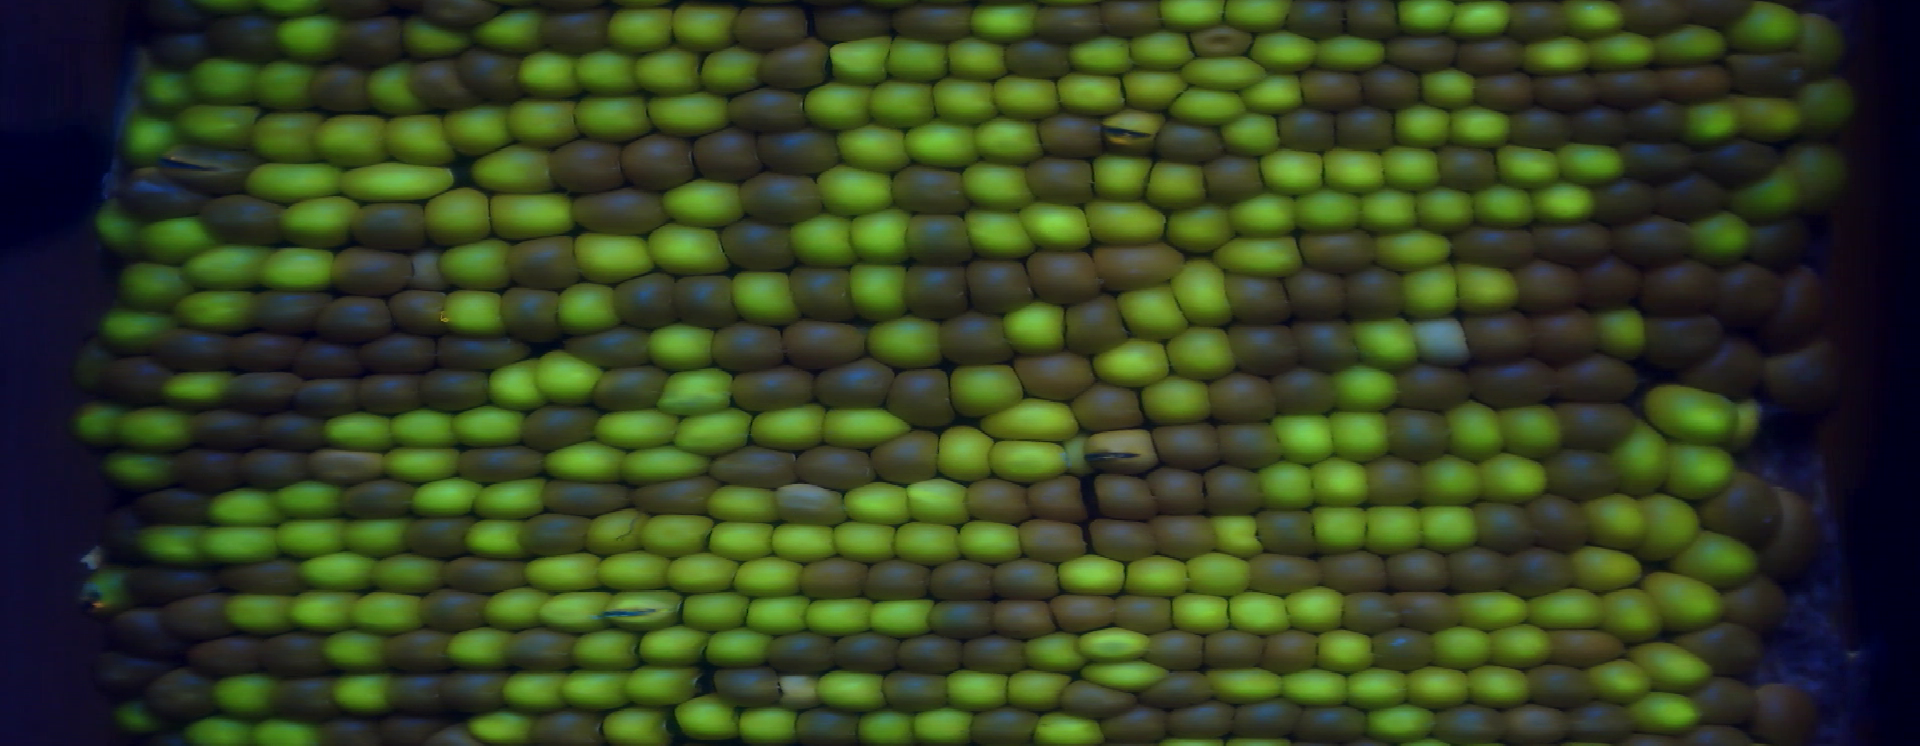fluorescent: (1643, 383, 1741, 443), (1673, 530, 1758, 587), (980, 394, 1079, 442), (1646, 570, 1724, 630), (339, 159, 452, 201), (816, 162, 895, 217), (647, 224, 729, 277), (573, 232, 653, 283), (242, 160, 340, 202), (1162, 327, 1236, 382), (731, 271, 800, 330), (863, 318, 945, 367), (1176, 257, 1233, 327), (438, 236, 509, 293), (309, 118, 388, 168), (280, 195, 358, 246), (1667, 440, 1734, 499), (1089, 338, 1168, 387), (948, 363, 1020, 416), (1086, 202, 1168, 249), (471, 142, 551, 190), (426, 187, 493, 244), (662, 176, 740, 225), (503, 100, 578, 151), (251, 107, 318, 162), (141, 216, 218, 263), (1642, 494, 1698, 559), (967, 162, 1040, 212), (835, 124, 909, 173), (388, 111, 452, 168), (824, 405, 912, 446), (491, 192, 569, 238), (658, 367, 730, 416), (1618, 420, 1667, 492), (1449, 401, 1505, 463), (593, 409, 680, 450), (1478, 452, 1548, 502), (1353, 318, 1418, 372), (1731, 164, 1798, 217), (973, 119, 1048, 165), (991, 439, 1069, 483), (1210, 236, 1300, 274), (171, 290, 253, 332), (644, 92, 729, 132), (182, 247, 269, 287), (902, 119, 973, 167), (263, 245, 334, 293), (638, 512, 713, 557), (1499, 404, 1560, 459), (1118, 287, 1183, 338), (962, 209, 1032, 257), (1638, 642, 1709, 688), (753, 405, 828, 450), (1597, 588, 1659, 641), (618, 447, 708, 484), (1164, 205, 1233, 252), (119, 262, 187, 310), (680, 409, 749, 456), (849, 265, 906, 321), (538, 348, 598, 402), (792, 217, 853, 269), (1583, 496, 1644, 549), (571, 627, 642, 673), (841, 478, 909, 526), (634, 49, 703, 96), (1531, 588, 1603, 632), (868, 80, 933, 129), (1003, 304, 1063, 356), (1262, 147, 1329, 195), (192, 60, 260, 107), (680, 590, 751, 635), (1026, 202, 1090, 251), (607, 590, 684, 631), (1371, 232, 1453, 269), (347, 592, 421, 633), (1142, 379, 1211, 424), (1322, 146, 1387, 194), (253, 60, 313, 111), (1573, 545, 1643, 589), (651, 322, 713, 372), (802, 82, 869, 127), (994, 72, 1062, 118), (1060, 70, 1128, 115), (938, 425, 992, 481), (1422, 452, 1478, 506), (1085, 431, 1160, 472), (518, 50, 579, 99), (1297, 187, 1363, 233), (1081, 658, 1168, 692), (573, 97, 651, 135), (624, 668, 703, 706), (1457, 590, 1533, 630), (369, 62, 422, 118), (1229, 195, 1297, 239), (1278, 416, 1333, 470), (444, 628, 512, 673), (1790, 146, 1844, 201), (1693, 212, 1750, 265), (933, 78, 997, 125), (100, 307, 171, 349), (1414, 187, 1474, 236), (811, 670, 883, 710), (542, 590, 609, 635), (1740, 98, 1806, 142), (602, 10, 672, 51), (853, 212, 909, 265), (1423, 503, 1478, 556), (475, 477, 542, 519), (448, 110, 512, 156), (547, 443, 623, 481), (527, 552, 602, 590), (574, 47, 633, 96), (828, 34, 887, 83), (178, 104, 249, 145), (1363, 506, 1423, 554), (1231, 588, 1292, 635), (91, 197, 143, 251), (1171, 89, 1248, 126), (1125, 554, 1191, 597), (885, 36, 948, 81), (1466, 664, 1528, 709), (891, 522, 961, 562), (1058, 556, 1128, 597), (277, 17, 340, 61), (588, 507, 648, 554), (598, 552, 671, 590), (298, 554, 373, 590), (958, 522, 1022, 565), (1393, 104, 1455, 149), (324, 409, 393, 450), (1146, 163, 1202, 212), (1123, 67, 1185, 111), (558, 283, 616, 331), (1093, 152, 1151, 200), (1358, 187, 1416, 235), (639, 627, 711, 665), (671, 2, 730, 49), (452, 405, 522, 445), (558, 671, 628, 710), (1456, 263, 1515, 310), (1187, 55, 1266, 89), (675, 697, 738, 740), (768, 519, 835, 560), (277, 517, 344, 557), (948, 668, 1008, 713), (1738, 4, 1798, 49), (490, 359, 542, 410), (1800, 78, 1853, 130), (1490, 624, 1551, 668), (1654, 26, 1728, 62), (201, 526, 277, 561), (1494, 145, 1562, 184), (705, 521, 771, 561), (322, 632, 388, 673), (803, 597, 869, 637), (444, 289, 503, 334), (699, 47, 758, 92), (486, 589, 550, 631), (399, 18, 469, 56), (1336, 367, 1396, 412), (1007, 670, 1067, 714), (1401, 265, 1453, 315), (1250, 33, 1318, 72), (122, 116, 178, 164), (948, 36, 1005, 81), (389, 410, 458, 448), (381, 443, 457, 478), (212, 488, 280, 526), (373, 554, 442, 592), (122, 405, 189, 445), (1418, 317, 1472, 365), (1554, 142, 1618, 183), (1188, 554, 1248, 597), (1433, 625, 1493, 668), (909, 479, 964, 526), (1598, 307, 1644, 363), (1125, 33, 1193, 71), (1261, 462, 1318, 507), (478, 12, 542, 51), (1802, 13, 1845, 72), (1315, 505, 1368, 552), (1589, 659, 1644, 704), (1248, 73, 1304, 118), (1213, 668, 1281, 704), (1333, 412, 1382, 462), (1318, 459, 1369, 507), (140, 71, 192, 118), (344, 519, 407, 559), (1521, 38, 1589, 73), (602, 707, 669, 744), (1474, 185, 1534, 225), (869, 597, 933, 635), (1174, 592, 1231, 635), (1408, 668, 1466, 709), (1106, 108, 1157, 154), (501, 673, 566, 709), (834, 522, 893, 562), (213, 677, 273, 717), (748, 598, 808, 637), (707, 488, 773, 523), (413, 481, 479, 517), (707, 631, 773, 666), (228, 597, 291, 633), (736, 706, 800, 742), (1589, 32, 1653, 69), (1349, 666, 1407, 707), (1319, 628, 1371, 673), (969, 5, 1036, 39), (913, 706, 972, 745), (290, 593, 350, 631), (1318, 36, 1384, 70), (272, 485, 338, 519), (1631, 692, 1697, 726), (1079, 631, 1150, 663), (1423, 66, 1476, 109), (1288, 590, 1341, 633), (1687, 102, 1740, 145), (336, 671, 393, 710), (1071, 36, 1133, 72), (138, 526, 200, 562), (1534, 181, 1596, 218), (1029, 632, 1082, 674), (1452, 1, 1516, 36), (1032, 714, 1109, 742), (1281, 670, 1349, 701), (249, 717, 320, 746), (70, 402, 122, 441), (164, 372, 225, 405), (1223, 114, 1275, 153), (858, 710, 915, 746), (1213, 512, 1258, 557), (1370, 706, 1433, 737), (1398, 2, 1455, 37), (109, 454, 169, 486), (189, 717, 253, 746), (80, 572, 129, 610), (464, 521, 522, 552), (1226, 1, 1287, 31), (1573, 2, 1625, 37), (473, 712, 527, 742), (1164, 2, 1226, 27), (1455, 105, 1487, 147), (121, 699, 149, 731)
nonfluorescent: (1700, 473, 1782, 541), (1756, 488, 1812, 583), (1644, 310, 1731, 367), (1681, 343, 1768, 398), (1638, 262, 1722, 318), (1764, 341, 1832, 405), (550, 135, 623, 194), (196, 192, 282, 243), (1030, 247, 1104, 305), (811, 360, 893, 412), (1468, 358, 1554, 407), (738, 171, 820, 222), (1695, 138, 1780, 186), (1016, 352, 1100, 401), (1675, 622, 1758, 671), (1776, 274, 1828, 352), (891, 367, 958, 428), (125, 167, 198, 220), (1544, 450, 1618, 503), (1559, 349, 1633, 402), (162, 148, 258, 189), (612, 274, 680, 332), (733, 2, 812, 51), (1449, 225, 1536, 269), (571, 191, 662, 233), (736, 367, 818, 414), (893, 167, 969, 217), (711, 323, 787, 374), (902, 265, 971, 320), (1095, 243, 1183, 285), (782, 322, 863, 369), (457, 47, 520, 105), (1396, 363, 1474, 410), (1560, 399, 1632, 451), (623, 135, 691, 190), (509, 236, 583, 287), (1231, 322, 1300, 375), (353, 200, 422, 252), (1382, 404, 1449, 459), (1067, 296, 1131, 352), (721, 217, 792, 267), (760, 40, 831, 91), (1212, 372, 1280, 425), (729, 87, 804, 134), (758, 127, 838, 171), (965, 258, 1031, 311), (786, 267, 853, 318), (1756, 682, 1813, 742), (691, 131, 759, 181), (1024, 158, 1092, 208), (418, 589, 493, 635), (1696, 673, 1760, 726), (1071, 383, 1141, 432), (768, 630, 838, 679), (1518, 265, 1583, 317), (1472, 500, 1537, 552), (627, 477, 716, 514), (1731, 51, 1806, 97), (1618, 218, 1690, 265), (421, 367, 495, 413), (251, 292, 324, 337), (942, 312, 1008, 363), (333, 250, 415, 290), (568, 327, 653, 366), (1205, 152, 1265, 207), (207, 18, 278, 65), (440, 555, 527, 593), (1226, 274, 1293, 323), (792, 448, 876, 488), (873, 431, 938, 481), (1300, 229, 1376, 272), (1531, 496, 1588, 552), (675, 274, 733, 330), (1725, 579, 1784, 635), (1344, 265, 1404, 318), (107, 356, 168, 409), (1660, 175, 1731, 220), (1250, 507, 1318, 555), (1531, 315, 1598, 363), (540, 481, 633, 516), (800, 555, 868, 601), (1289, 267, 1348, 321), (1087, 468, 1153, 516), (497, 290, 558, 342), (589, 365, 662, 408), (966, 477, 1033, 523), (1253, 552, 1324, 597), (1551, 628, 1626, 670), (149, 671, 207, 725), (407, 61, 473, 108), (1089, 517, 1158, 561), (711, 450, 792, 488), (1536, 220, 1611, 261), (1298, 323, 1360, 372), (896, 633, 964, 679), (1155, 423, 1218, 470), (433, 337, 522, 371), (1745, 228, 1813, 272), (1053, 590, 1118, 637), (1512, 548, 1573, 597), (539, 7, 605, 53), (1293, 706, 1371, 744), (1153, 122, 1221, 167), (158, 330, 231, 370), (383, 628, 451, 673), (1033, 2, 1104, 44), (131, 567, 214, 603), (1060, 680, 1138, 718), (522, 408, 596, 447), (1139, 673, 1213, 712), (1445, 548, 1512, 590), (1340, 589, 1403, 635), (1472, 71, 1536, 116), (324, 296, 396, 337), (909, 220, 970, 267), (1303, 69, 1369, 111), (1583, 257, 1640, 307), (228, 370, 298, 410), (271, 675, 340, 715), (442, 676, 509, 718), (1021, 517, 1089, 559), (340, 17, 400, 64), (1598, 179, 1658, 225), (360, 334, 433, 372), (891, 4, 970, 39), (407, 514, 471, 557), (1389, 548, 1450, 593), (219, 562, 300, 597), (1417, 318, 1473, 367), (1569, 107, 1635, 148), (394, 287, 452, 334), (186, 637, 261, 674), (1038, 114, 1102, 157), (1104, 703, 1168, 746), (1086, 428, 1153, 468), (1199, 631, 1266, 671), (1220, 423, 1280, 468), (1723, 267, 1768, 327), (312, 62, 367, 111), (118, 608, 173, 657), (1157, 517, 1218, 561), (1474, 317, 1536, 361), (238, 450, 309, 488), (459, 447, 538, 481), (864, 562, 933, 601), (1572, 699, 1630, 746), (811, 7, 891, 40), (509, 628, 573, 670), (1434, 146, 1498, 187), (253, 412, 323, 450), (300, 337, 360, 381), (163, 595, 223, 639), (261, 633, 328, 673), (1278, 111, 1340, 154), (1371, 627, 1433, 670), (960, 637, 1029, 675), (358, 372, 418, 415), (993, 597, 1053, 639), (1526, 664, 1586, 707), (1273, 370, 1329, 416), (1232, 699, 1302, 736), (1391, 32, 1458, 70), (992, 560, 1059, 598), (1435, 704, 1502, 742), (1403, 588, 1460, 633), (1631, 100, 1689, 145), (778, 481, 840, 522), (340, 479, 414, 513), (878, 673, 951, 707), (168, 450, 234, 488), (711, 668, 778, 706), (1364, 459, 1418, 506), (838, 631, 898, 673), (795, 707, 858, 746), (231, 334, 301, 370), (293, 380, 360, 416), (969, 706, 1036, 742), (1340, 107, 1393, 152), (140, 489, 208, 524), (927, 563, 993, 600), (1502, 707, 1569, 744), (1284, 1, 1348, 39), (1509, 108, 1572, 146), (1207, 465, 1259, 512), (1190, 24, 1258, 60), (140, 1, 204, 38), (189, 409, 251, 447), (1100, 1, 1160, 40), (1329, 552, 1389, 592), (1453, 38, 1524, 71), (1367, 67, 1423, 109), (929, 601, 991, 639), (1156, 469, 1209, 513), (530, 712, 598, 746), (1663, 69, 1733, 102), (104, 652, 167, 688), (1536, 70, 1598, 107), (1269, 625, 1315, 674), (1171, 701, 1231, 739), (1149, 630, 1205, 670), (1629, 143, 1695, 178), (313, 450, 384, 481), (149, 32, 204, 72), (1003, 39, 1068, 73), (1598, 72, 1663, 107), (1116, 597, 1172, 636), (1030, 478, 1082, 519), (1344, 2, 1400, 40), (1505, 6, 1562, 39), (111, 508, 143, 566), (387, 673, 438, 708), (373, 717, 429, 746), (321, 714, 369, 746)
